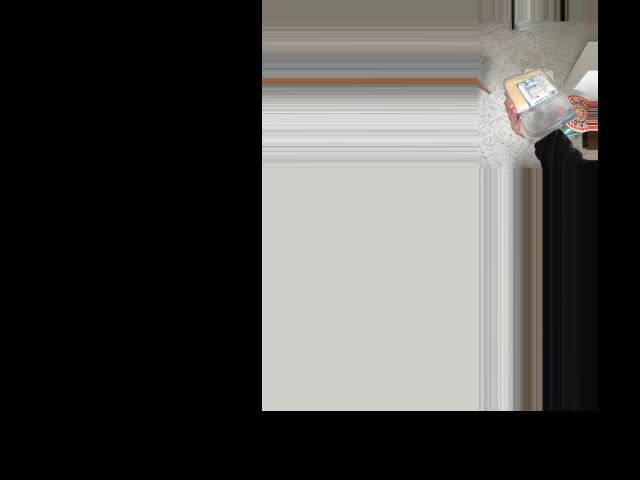cheese: (512, 63, 577, 133)
